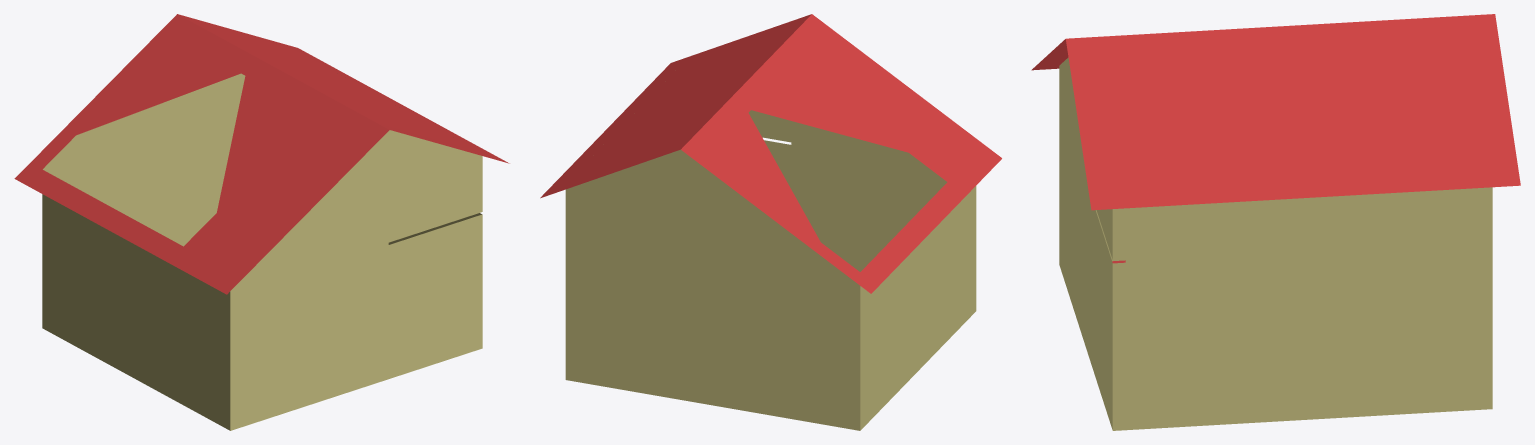
The picture shows the model from 3 angles, left to right: view 1: azimuth 30°, elevation 25°; view 2: azimuth 150°, elevation 25°; view 3: azimuth 270°, elevation 25°; orthographic projection. The views are drawn at different scales.
Bounding box in the file's own units: 15.09 × 14.72 × 10.75.
